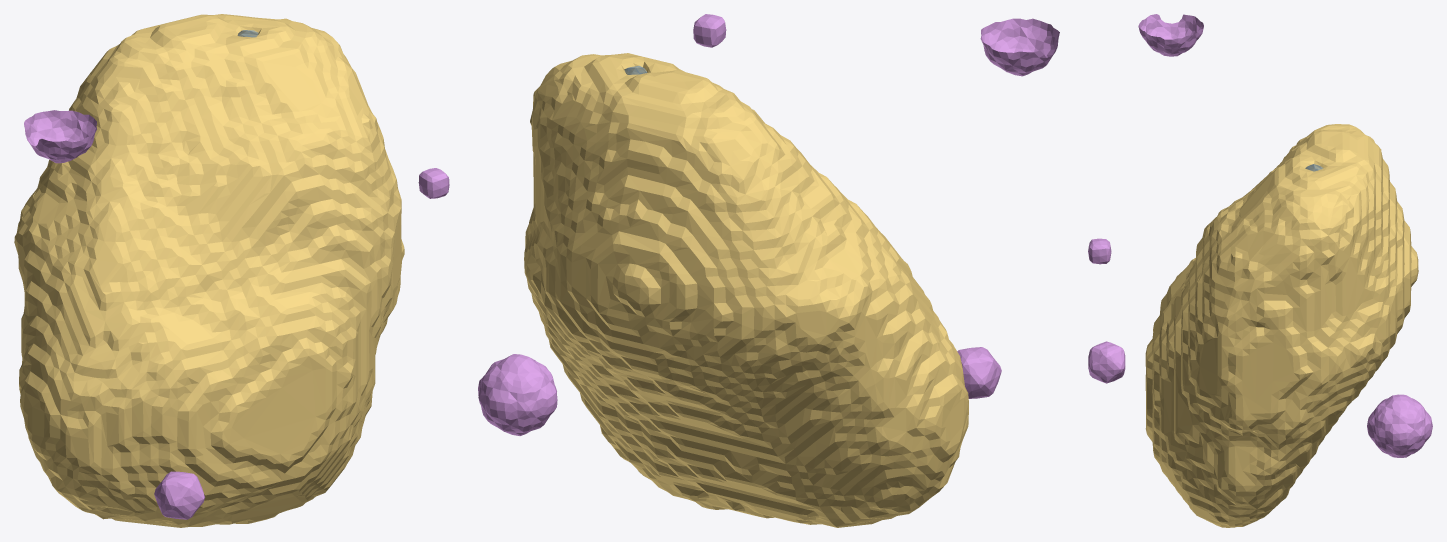
Rendered from prompt.glb.
3 renders of one model, left to right at view 1: azimuth 30°, elevation 25°; view 2: azimuth 150°, elevation 25°; view 3: azimuth 270°, elevation 25°, orthographic. The views are drawn at different scales.
Visible parts, largest first — view 1: world; view 2: world; view 3: world.
Boxes of the visible parts, x1,y1,x2,y2 form: world: (14, 14, 449, 527); world: (478, 14, 1059, 527); world: (1088, 14, 1432, 527).
Bounding box in the file's own units: 0.8678 × 0.9471 × 0.7541.
